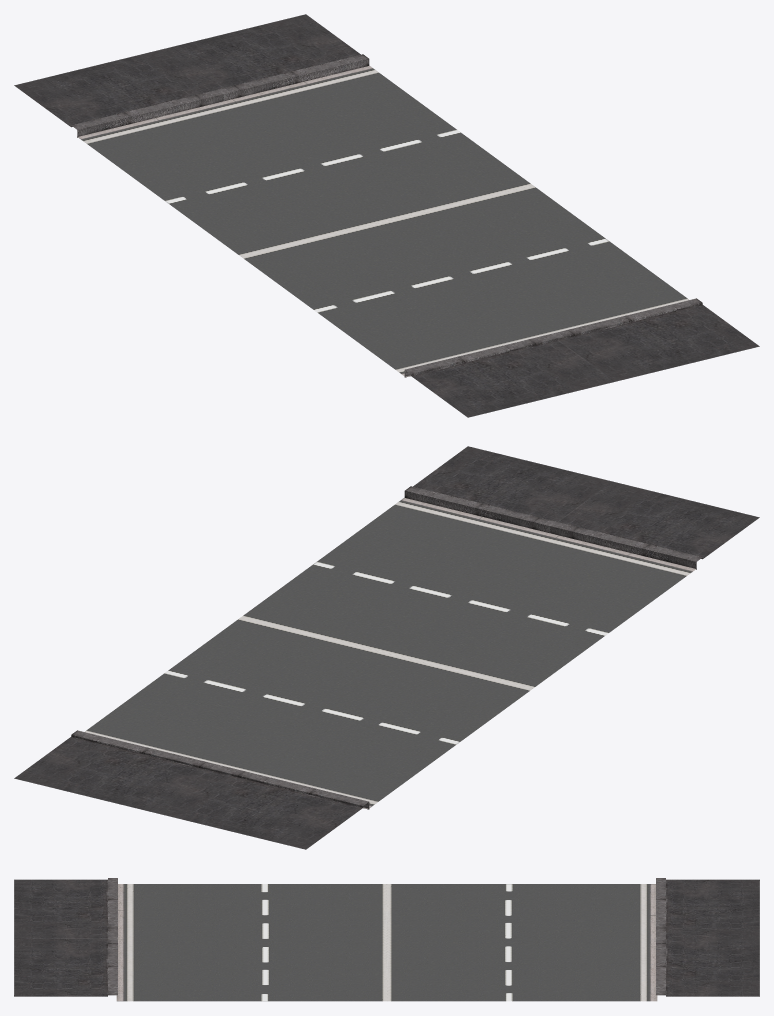
The model's file is 4 lines_mobile.FBX.
3 renders of one model, top to bottom at view 1: azimuth 30°, elevation 25°; view 2: azimuth 150°, elevation 25°; view 3: azimuth 270°, elevation 25°, orthographic. The views are drawn at different scales.
Parts seen in each view (by area): view 1: Object194; view 2: Object194; view 3: Object194.
Part boxes in pixels (bbox=[...]): Object194: bbox=[14, 14, 759, 417]; Object194: bbox=[14, 446, 759, 849]; Object194: bbox=[14, 878, 759, 1001].
Bounding box in the file's own units: 12.01 × 0.3184 × 32.31.
